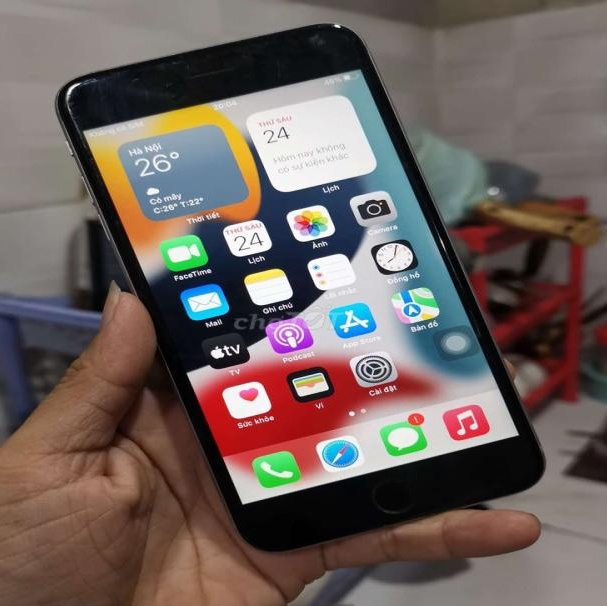scratch: (40, 65, 185, 119), (292, 26, 383, 63)
